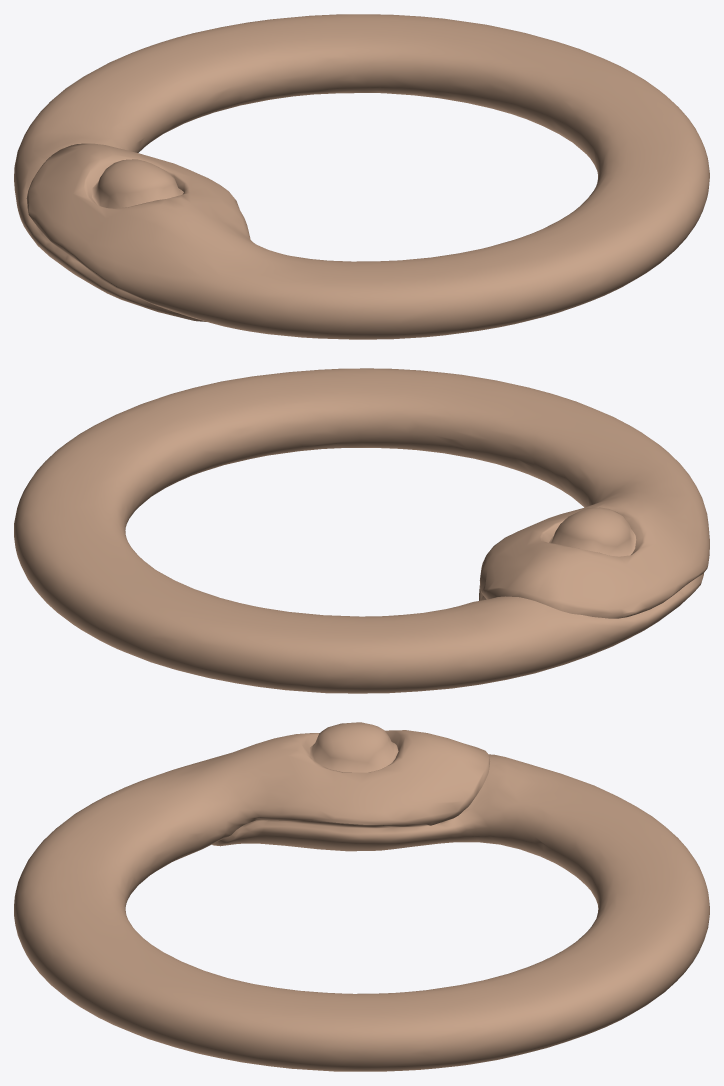
Rendered from chainmail.FBX.
The picture shows the model from 3 angles, top to bottom: view 1: azimuth 30°, elevation 25°; view 2: azimuth 150°, elevation 25°; view 3: azimuth 270°, elevation 25°; orthographic projection.
Parts seen in each view (by area): view 1: Torus001-reduced; view 2: Torus001-reduced; view 3: Torus001-reduced.
Boxes of the visible parts, <box> form: Torus001-reduced: <box>14,14,709,339</box>; Torus001-reduced: <box>14,368,709,693</box>; Torus001-reduced: <box>14,722,709,1071</box>.
Bounding box in the file's own units: 95.75 × 14.98 × 94.18.
